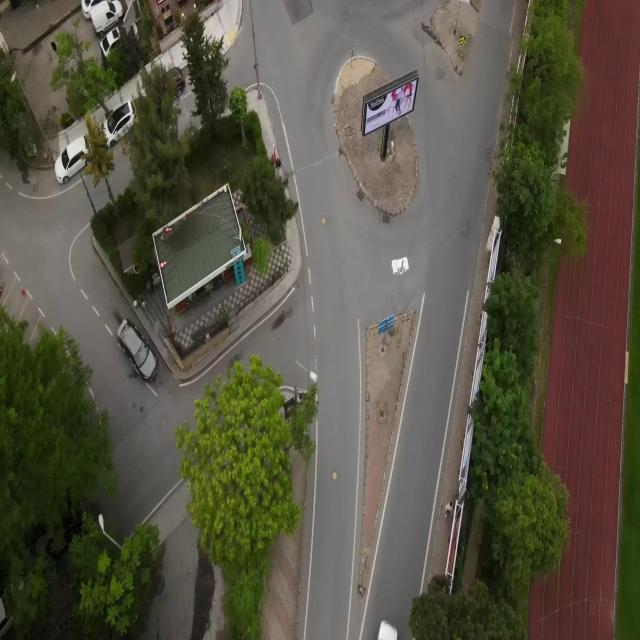p3rson: (444, 500, 454, 519)
